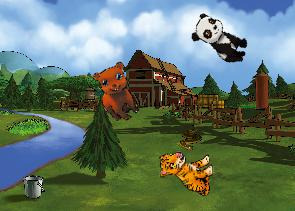bear: (85, 56, 152, 127)
panda: (187, 10, 254, 68)
tiger: (159, 150, 214, 196)
